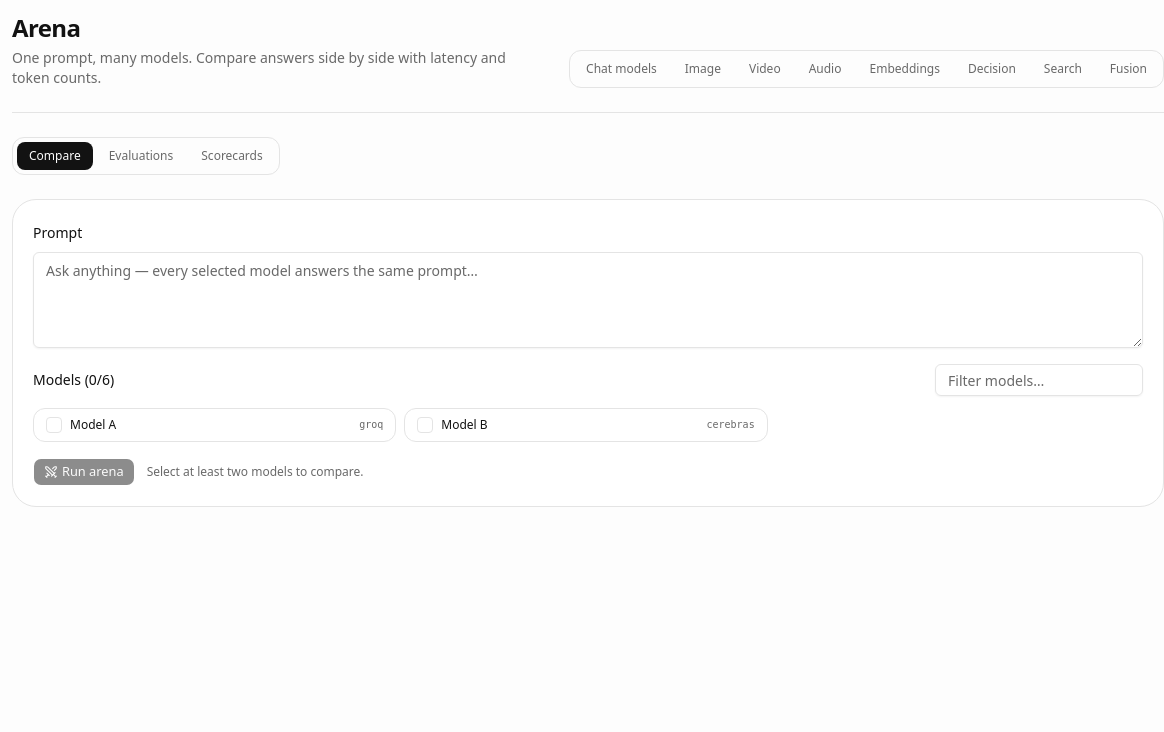
Test: deselects on a second click
Click the button "Model A groq": (93, 424) [33,408,396,442]
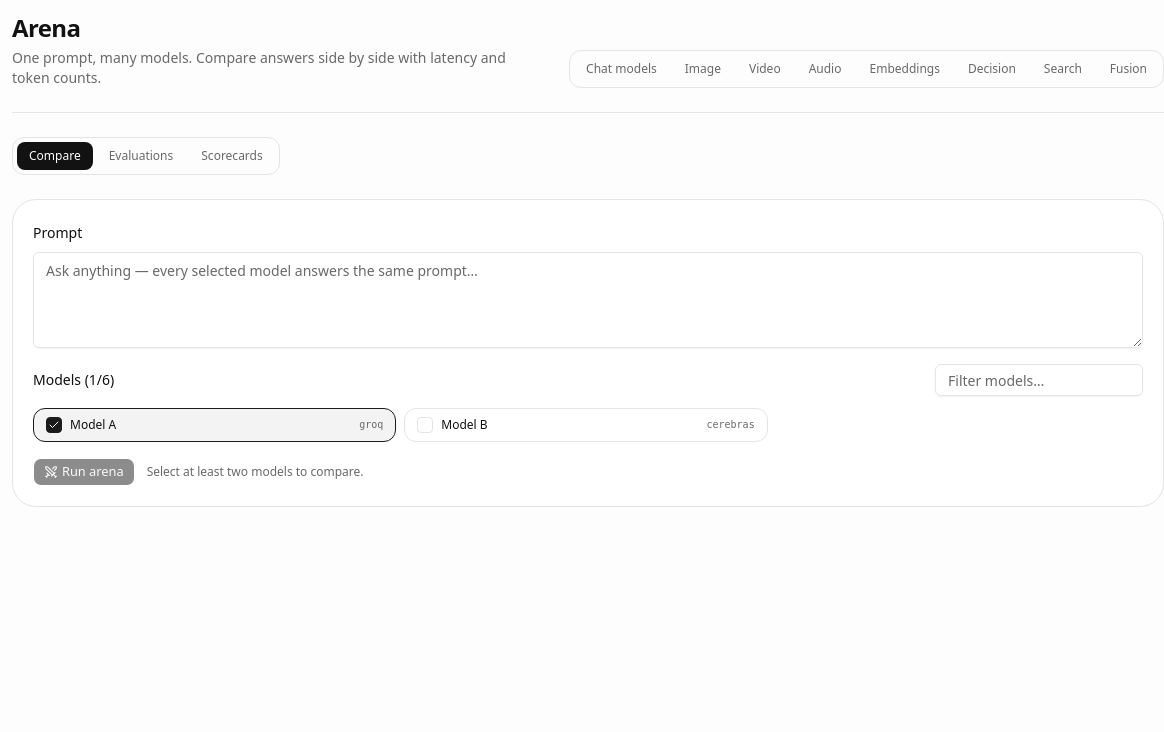
Expected: the button "Model A groq" is pressed
Click the button "Model A groq": (93, 424) [33,408,396,442]
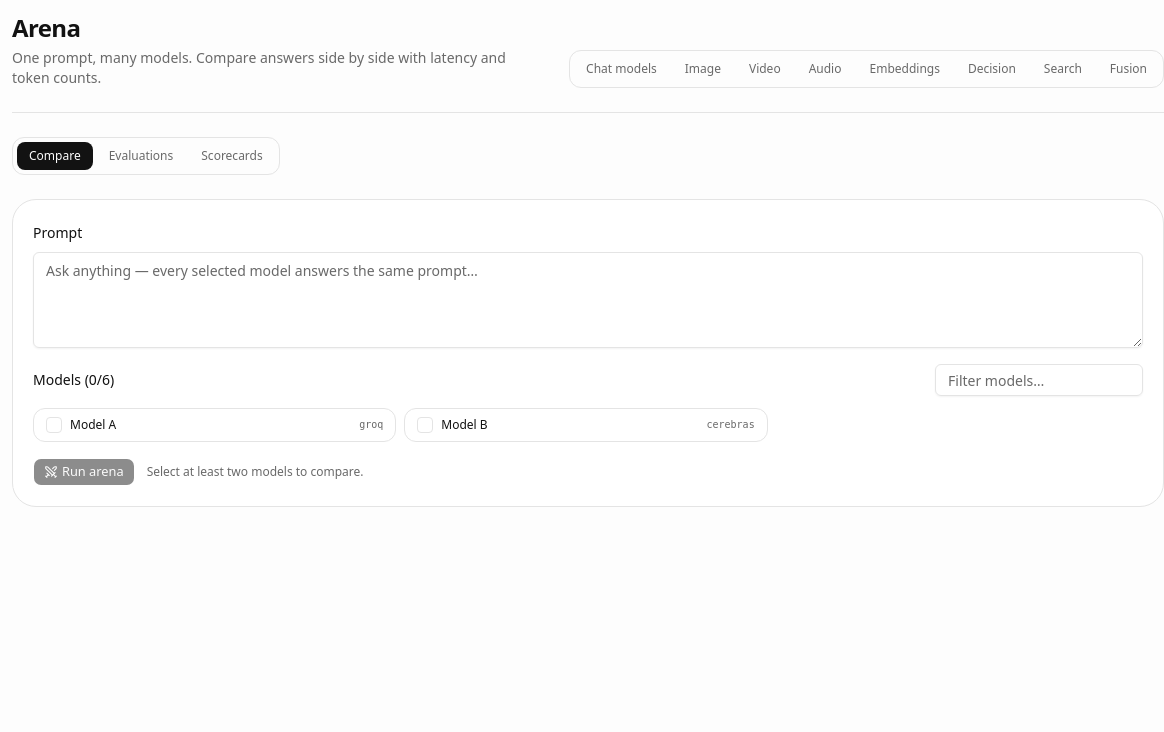
Expected: the text "Models (0/6)" is shown, [33,370,114,390]
